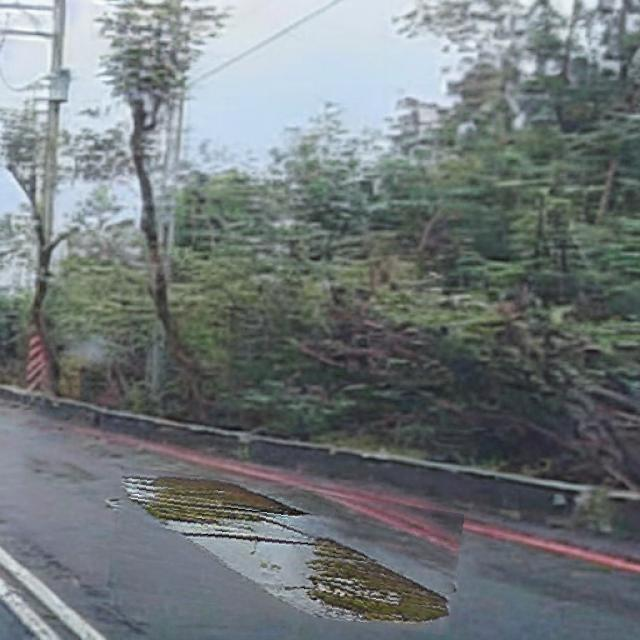puddle: (111, 479, 462, 624)
